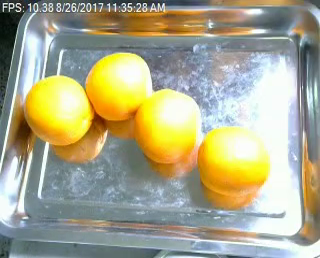Orange: (134, 87, 201, 164), (198, 125, 269, 195), (23, 74, 92, 145), (84, 52, 151, 119)
